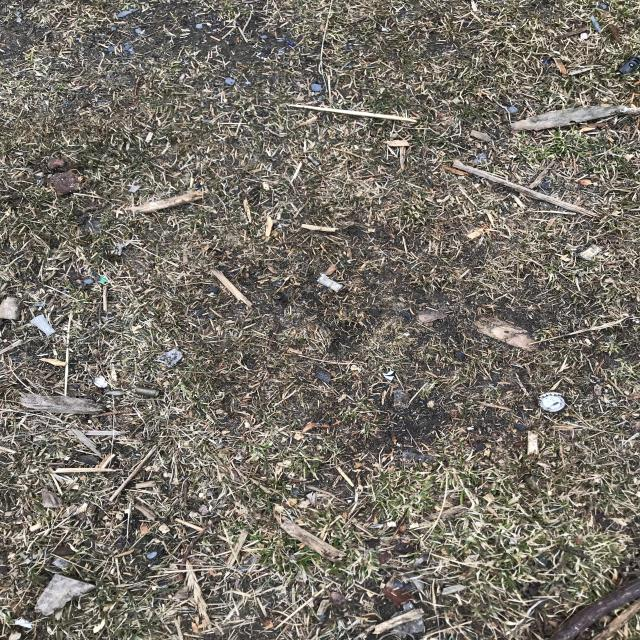litter: (363, 221, 391, 242)
